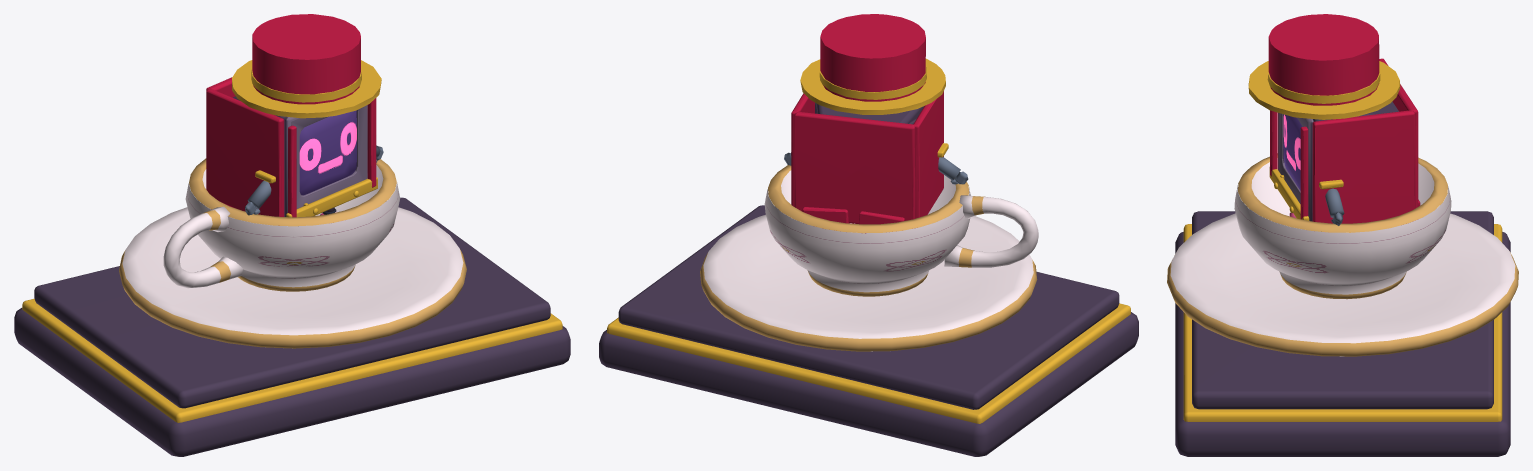
The model's file is kart.outfit.ringmaster.glb.
3 views of the same model, side by side, from view 1: azimuth 30°, elevation 25°; view 2: azimuth 150°, elevation 25°; view 3: azimuth 270°, elevation 25° (orthographic). The views are drawn at different scales.
Parts seen in each view (by area): view 1: emi_teacup_mesh, stand_display_top, stand_display_base, stand_brass_band, top_hat_crown, jacket_side.001, top_hat_brim, waist_band, hat_band, front_open_edge, front_open_edge.001; view 2: emi_teacup_mesh, stand_display_top, stand_display_base, jacket_back, stand_brass_band, top_hat_crown, top_hat_brim, jacket_side.001, hat_band, jacket_side; view 3: emi_teacup_mesh, stand_display_top, stand_display_base, jacket_side, top_hat_crown, stand_brass_band, top_hat_brim, hat_band, front_open_edge, jacket_back, waist_band, front_open_edge.001.
Boxes of the visible parts, left/top/right/bottom form: emi_teacup_mesh: left=119, top=96, right=466, bottom=348; stand_display_top: left=34, top=197, right=550, bottom=408; stand_display_base: left=14, top=308, right=570, bottom=456; stand_brass_band: left=22, top=298, right=562, bottom=422; top_hat_crown: left=252, top=14, right=360, bottom=104; jacket_side.001: left=206, top=89, right=284, bottom=216; top_hat_brim: left=232, top=60, right=381, bottom=118; waist_band: left=286, top=177, right=377, bottom=217; hat_band: left=251, top=68, right=361, bottom=102; front_open_edge: left=367, top=98, right=376, bottom=187; front_open_edge.001: left=288, top=125, right=296, bottom=217; emi_teacup_mesh: left=700, top=103, right=1038, bottom=351; stand_display_top: left=618, top=205, right=1119, bottom=409; stand_display_base: left=599, top=312, right=1138, bottom=456; jacket_back: left=794, top=111, right=915, bottom=223; stand_brass_band: left=607, top=303, right=1130, bottom=423; top_hat_crown: left=820, top=14, right=925, bottom=101; top_hat_brim: left=800, top=58, right=945, bottom=114; jacket_side.001: left=913, top=91, right=943, bottom=218; hat_band: left=819, top=66, right=926, bottom=99; jacket_side: left=791, top=93, right=814, bottom=206; emi_teacup_mesh: left=1167, top=101, right=1518, bottom=356; stand_display_top: left=1192, top=211, right=1493, bottom=409; stand_display_base: left=1175, top=232, right=1510, bottom=456; jacket_side: left=1312, top=110, right=1415, bottom=223; top_hat_crown: left=1268, top=14, right=1379, bottom=105; stand_brass_band: left=1183, top=224, right=1502, bottom=421; top_hat_brim: left=1248, top=61, right=1400, bottom=119; hat_band: left=1267, top=70, right=1380, bottom=103; front_open_edge: left=1300, top=126, right=1308, bottom=219; jacket_back: left=1379, top=58, right=1418, bottom=208; waist_band: left=1269, top=167, right=1309, bottom=220; front_open_edge.001: left=1270, top=110, right=1277, bottom=176.
Size of the model in its own units: 0.64 by 0.4932 by 0.48.
Materials: 4 (2 with a texture image).
